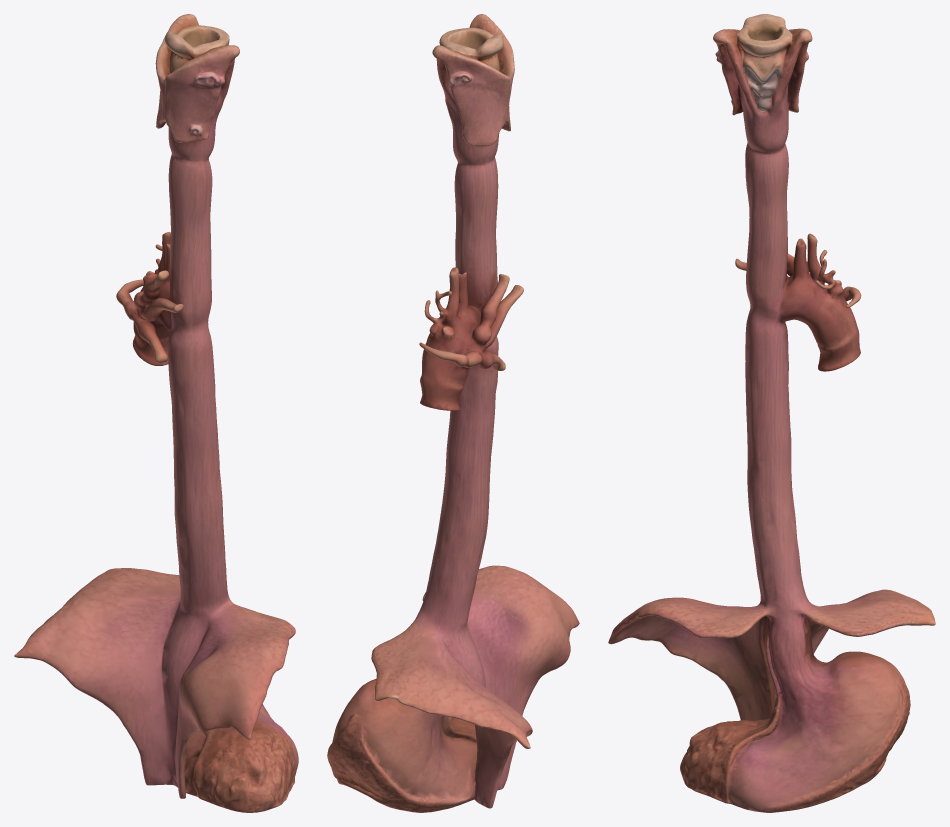
The model's file is oesophagus.glb.
The picture shows the model from 3 angles, left to right: view 1: azimuth 30°, elevation 25°; view 2: azimuth 150°, elevation 25°; view 3: azimuth 270°, elevation 25°; orthographic projection. The views are drawn at different scales.
Parts seen in each view (by area): view 1: tripo_node_990c7d2c-00bd-47c6-8cdf-c654e0755444; view 2: tripo_node_990c7d2c-00bd-47c6-8cdf-c654e0755444; view 3: tripo_node_990c7d2c-00bd-47c6-8cdf-c654e0755444.
Part boxes in pixels (x1,y1,x2,y2): tripo_node_990c7d2c-00bd-47c6-8cdf-c654e0755444: (14, 14, 298, 812); tripo_node_990c7d2c-00bd-47c6-8cdf-c654e0755444: (327, 14, 579, 812); tripo_node_990c7d2c-00bd-47c6-8cdf-c654e0755444: (608, 14, 935, 812).
Bounding box in the file's own units: 0.3067 × 0.9999 × 0.4.
1 material, 1 textured.
